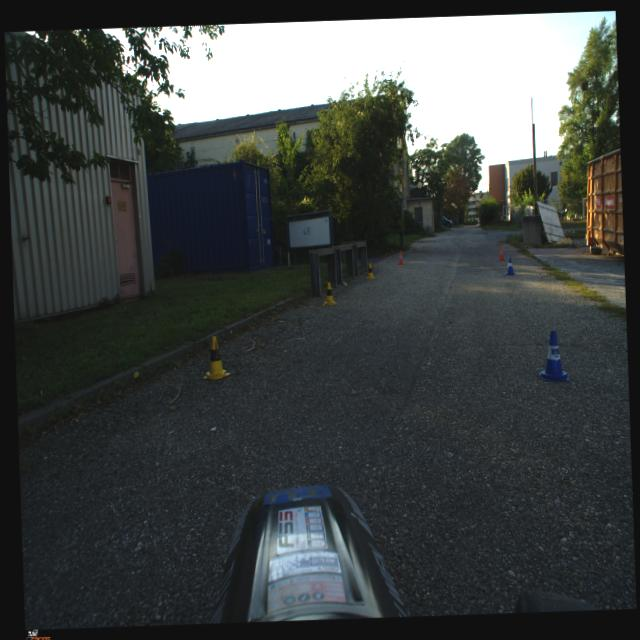blue_cone: (537, 329, 569, 382), (504, 257, 514, 275)
orange_cone: (497, 246, 505, 260), (396, 250, 404, 264)
yellow_cone: (202, 336, 230, 380), (322, 282, 336, 305), (364, 262, 376, 278)
